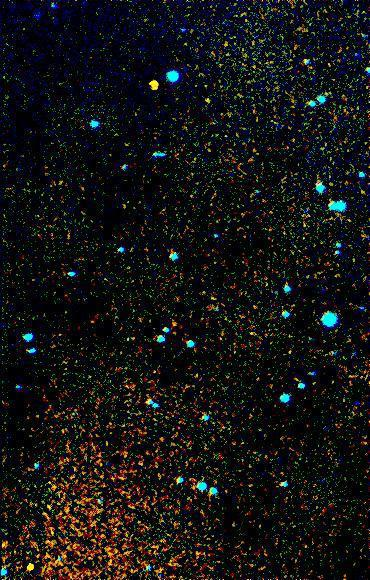star: (137, 78, 167, 108)
